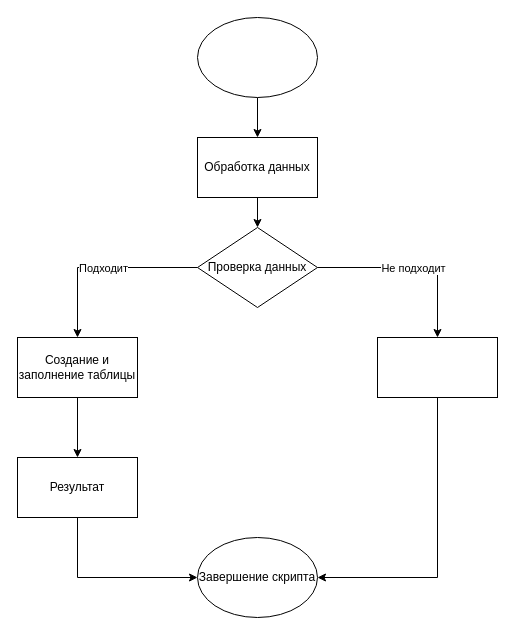
Some shapes in this 515 by 635 pixel diagram are drawn without their labels. The centre of each missing label's shape, as x and y in pixels:
"Начало скрипта" goes at pixel 257 57.
"Отображение ошибки" goes at pixel 437 367.
